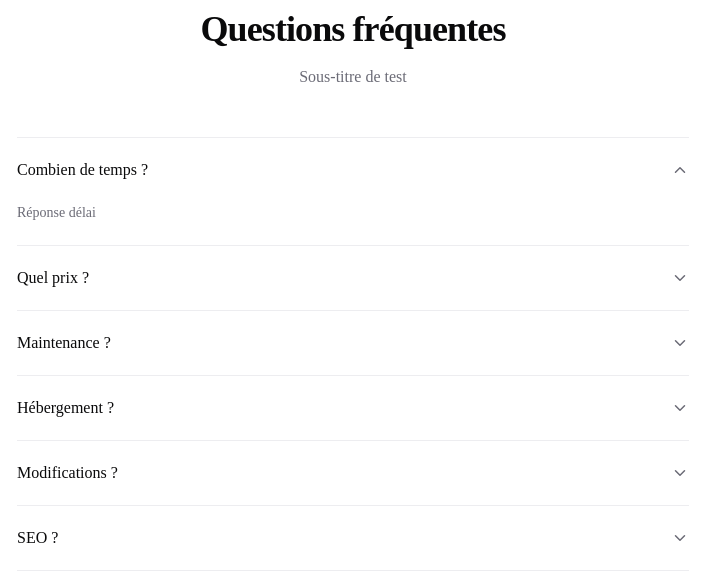
FAQ › ouvre la réponse quand on clique sur une question fermée
Expected: the text "Réponse prix" is not shown
Click the button "Quel prix ?": {"x": 53, "y": 277} [17, 246, 689, 310]
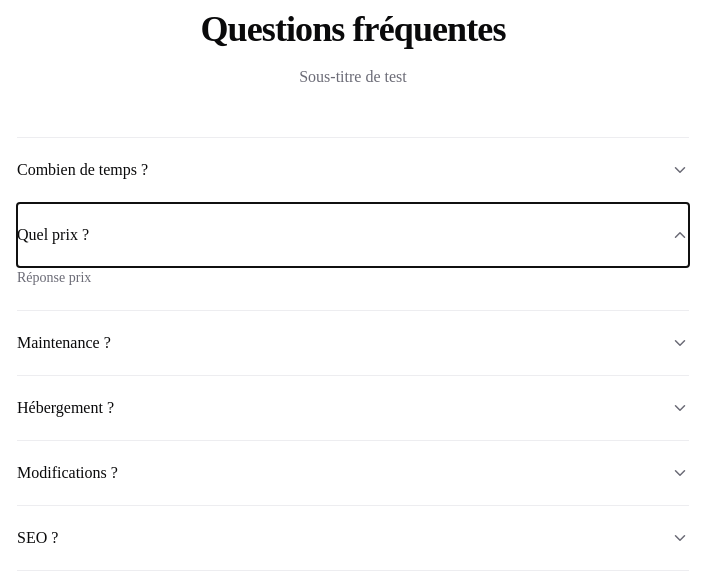
Now the text "Réponse prix" is shown, box [17, 270, 91, 285]
